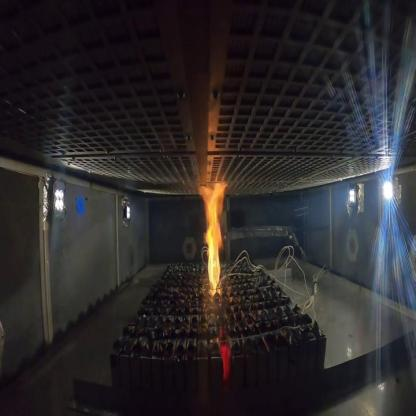fire: (196, 181, 232, 295)
